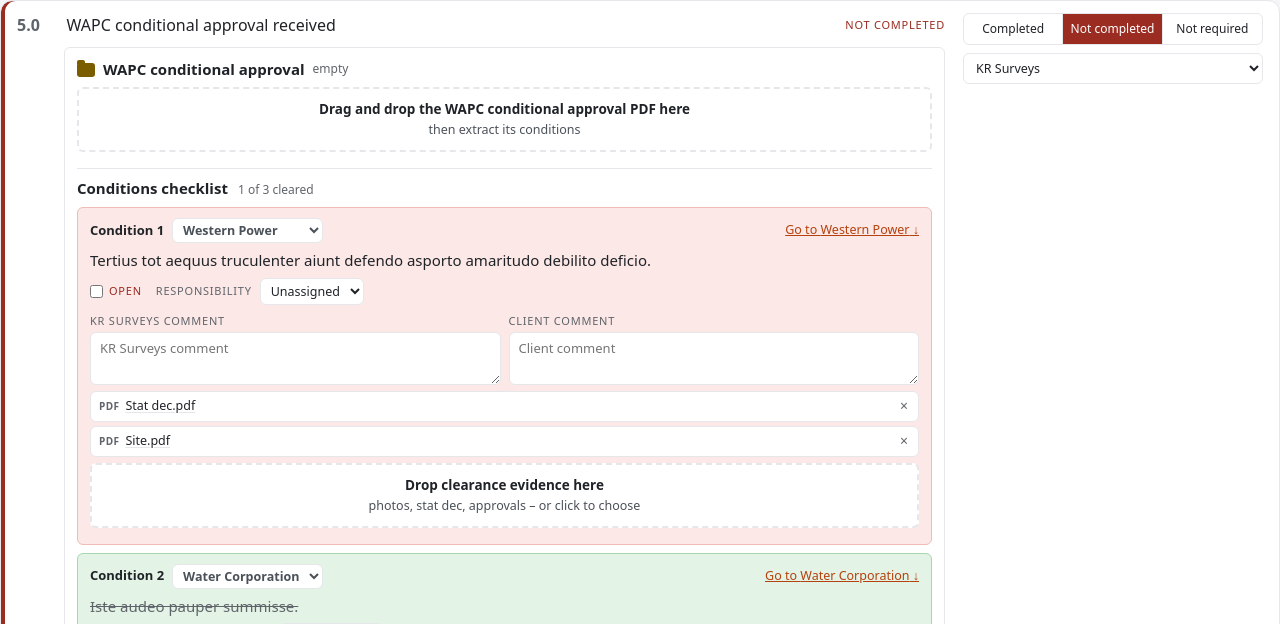
it: condition evidence files › removes a file after 'Remove? Yes', at once, and refreshes the job
The image size is (1280, 624).
Click the button named "Remove Stat dec.pdf".
click(904, 406)  # box [894,397,914,415]
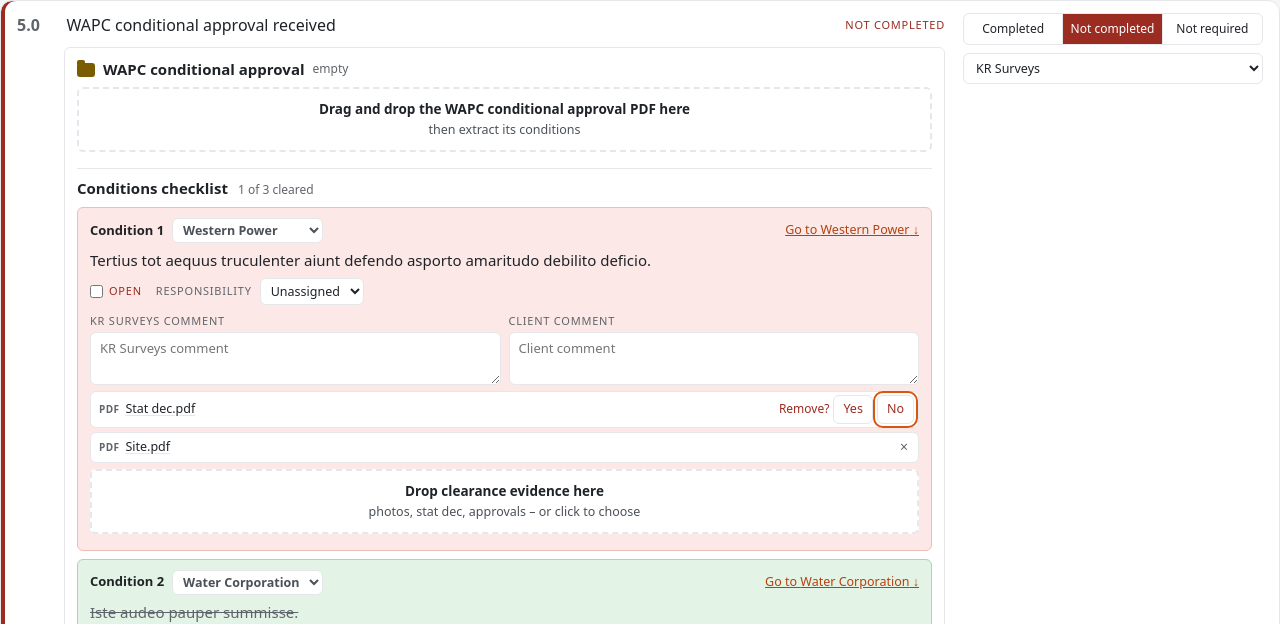
Check: the text "Remove?" is shown, box [779,400,829,417]
Click the button "Yes".
click(853, 409)  # box [833,395,873,424]
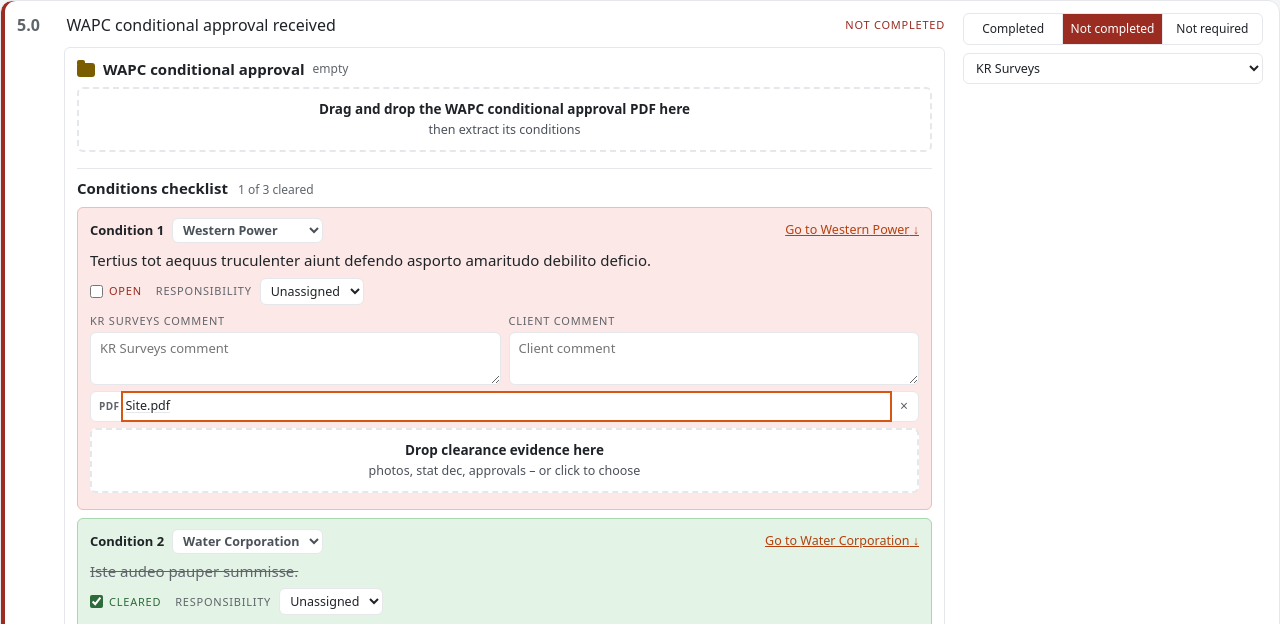
Check: the button "Site.pdf" is shown, box [125,395,888,418]
Check: the button "Stat dec.pdf" is gone
